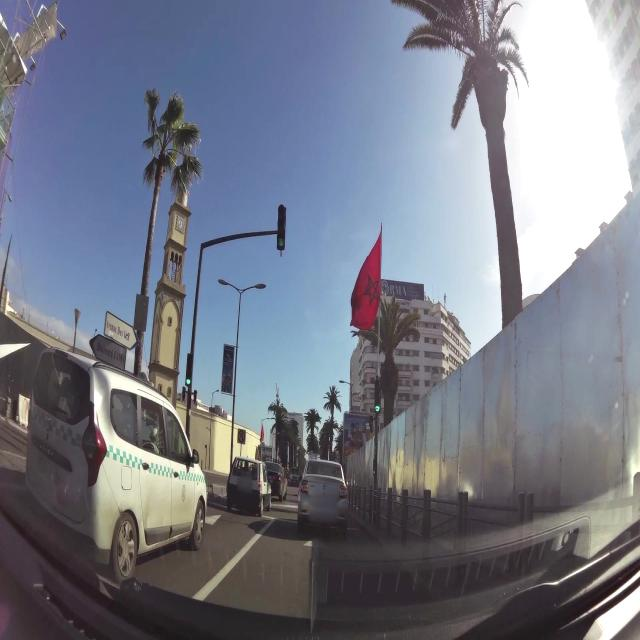car: (24, 341, 208, 586), (297, 458, 349, 537), (225, 456, 272, 516), (264, 462, 288, 503), (287, 471, 301, 488)
